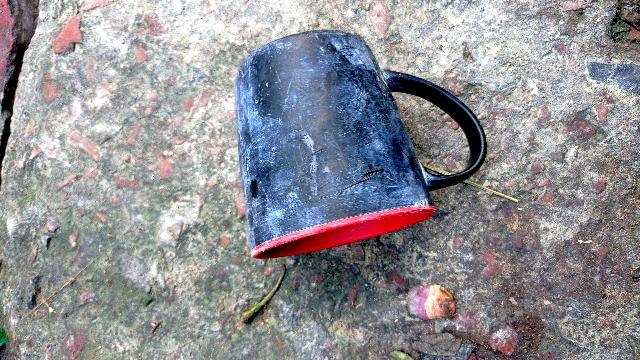hardplastic: (190, 0, 445, 263)
